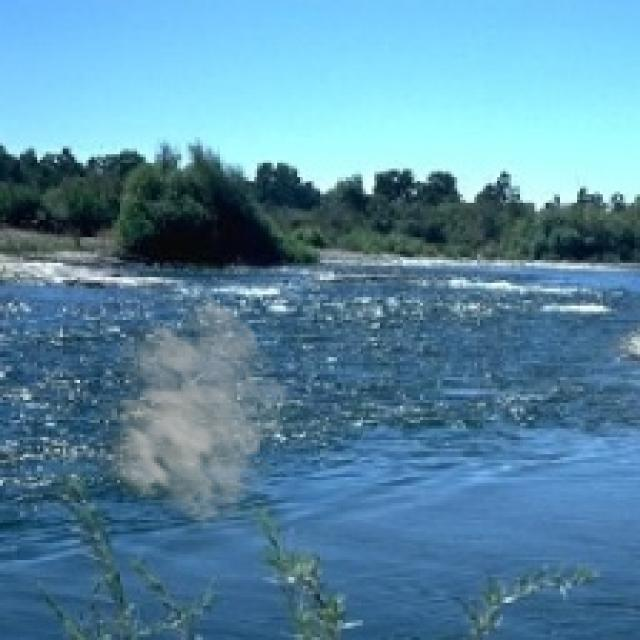Smoke: (74, 286, 297, 540)
